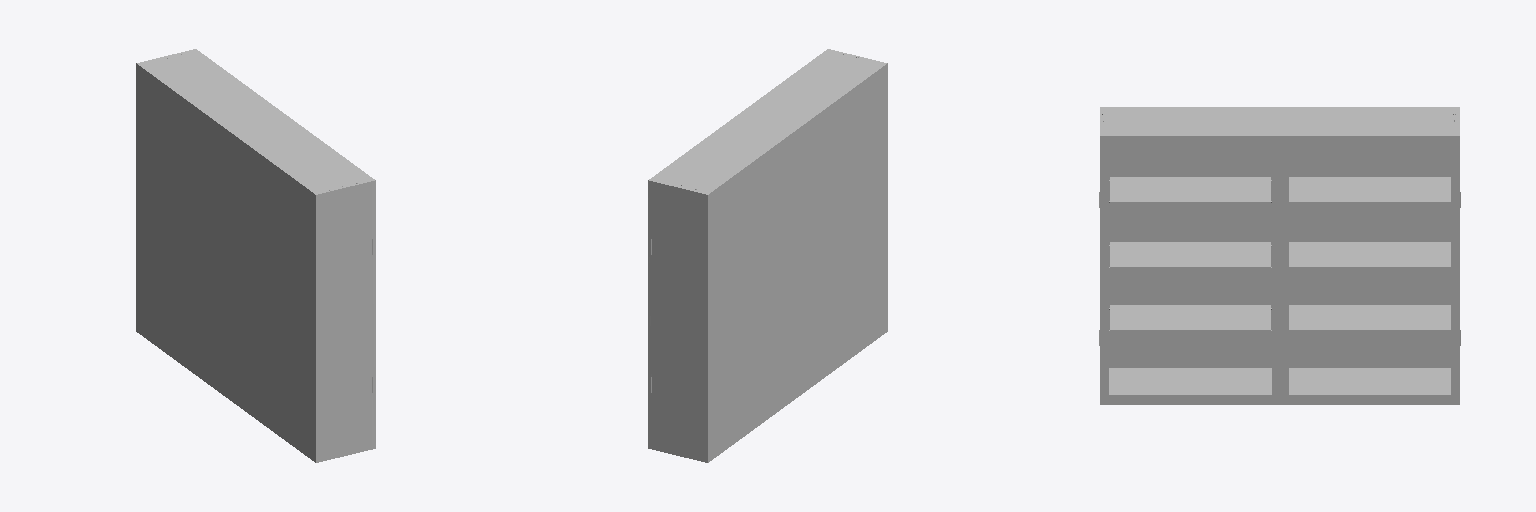
File: showCase4.obj
3 renders of one model, left to right at view 1: azimuth 30°, elevation 25°; view 2: azimuth 150°, elevation 25°; view 3: azimuth 270°, elevation 25°, orthographic.
Parts seen in each view (by area): view 1: model:Mesh4_Mesh5; view 2: model:Mesh4_Mesh5; view 3: model:Mesh4_Mesh5.
Part boxes in pixels (left/top/right/bottom): model:Mesh4_Mesh5: left=136, top=49, right=375, bottom=462; model:Mesh4_Mesh5: left=648, top=49, right=887, bottom=462; model:Mesh4_Mesh5: left=1099, top=107, right=1460, bottom=404.
Bounding box in the file's own units: 1.84 × 7.91 × 9.65.